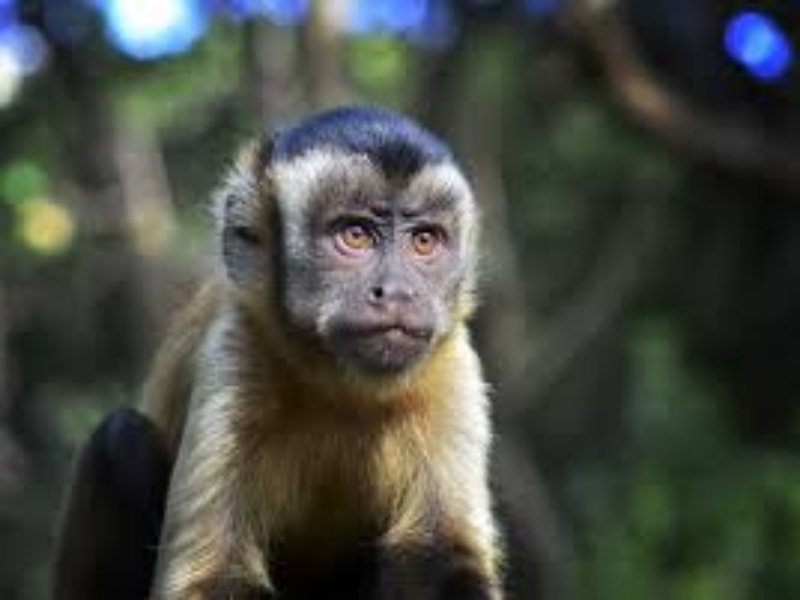monkey: (132, 86, 538, 599)
